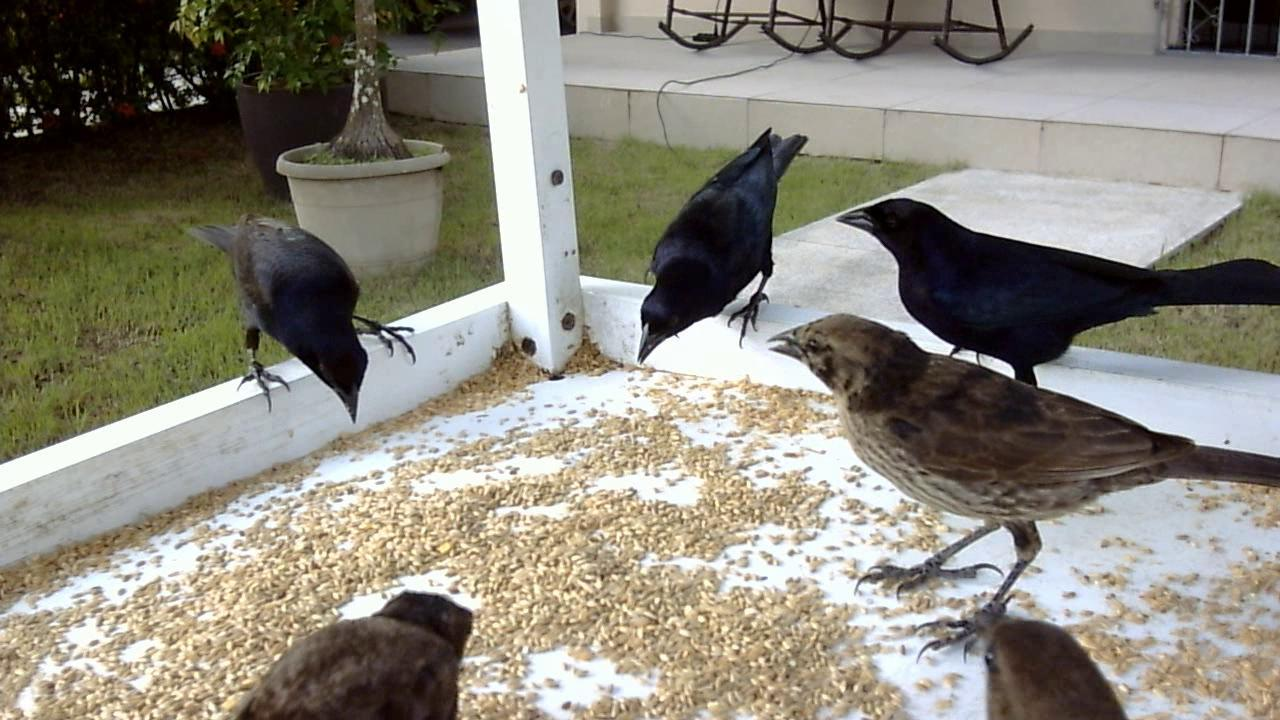chupim: (761, 307, 1267, 638), (835, 182, 1265, 392), (184, 207, 422, 434), (633, 122, 824, 368), (212, 568, 482, 720), (964, 588, 1128, 720)
